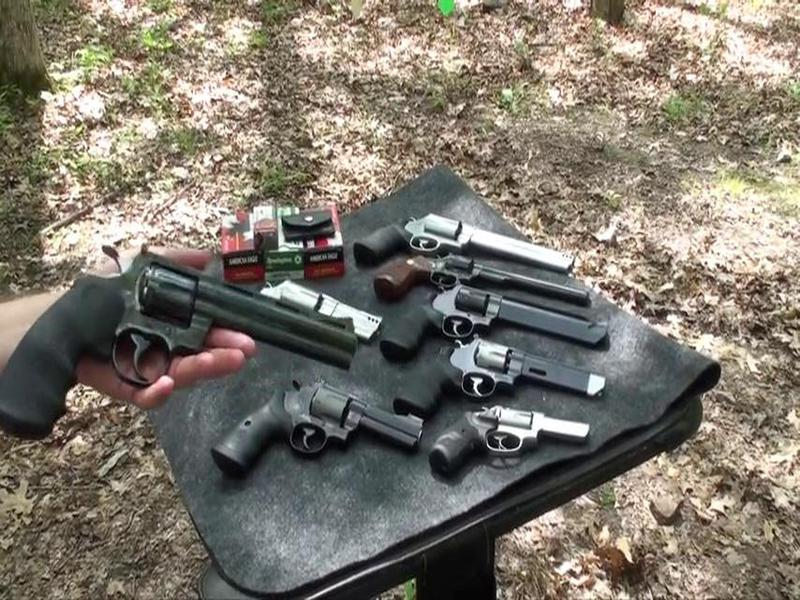Revolver: (33, 247, 347, 466)
